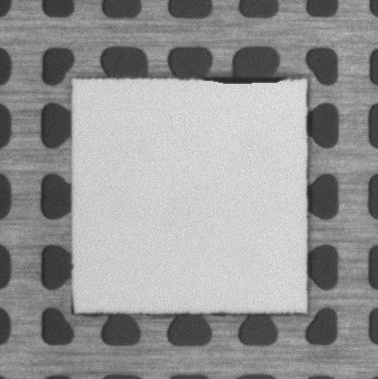DIE_BROKEN: (199, 71, 289, 84)
